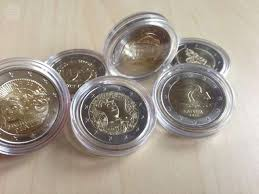eur002: (1, 61, 61, 148), (80, 82, 147, 143), (161, 71, 227, 127)
